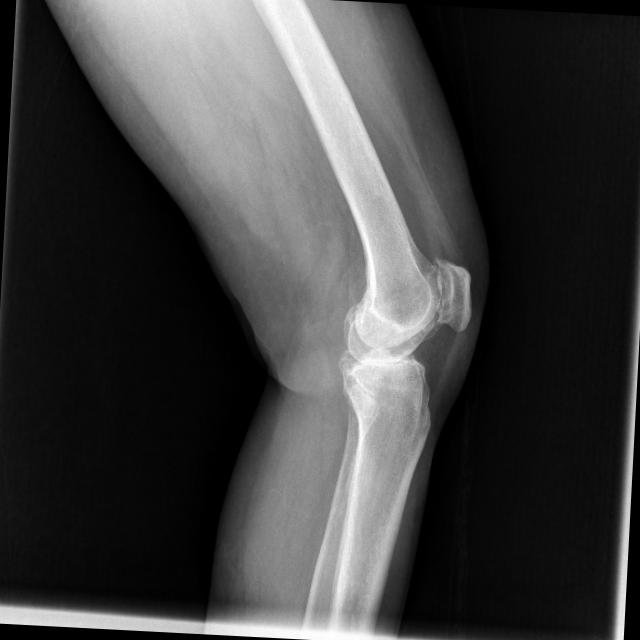Knee: (336, 246, 478, 430)
